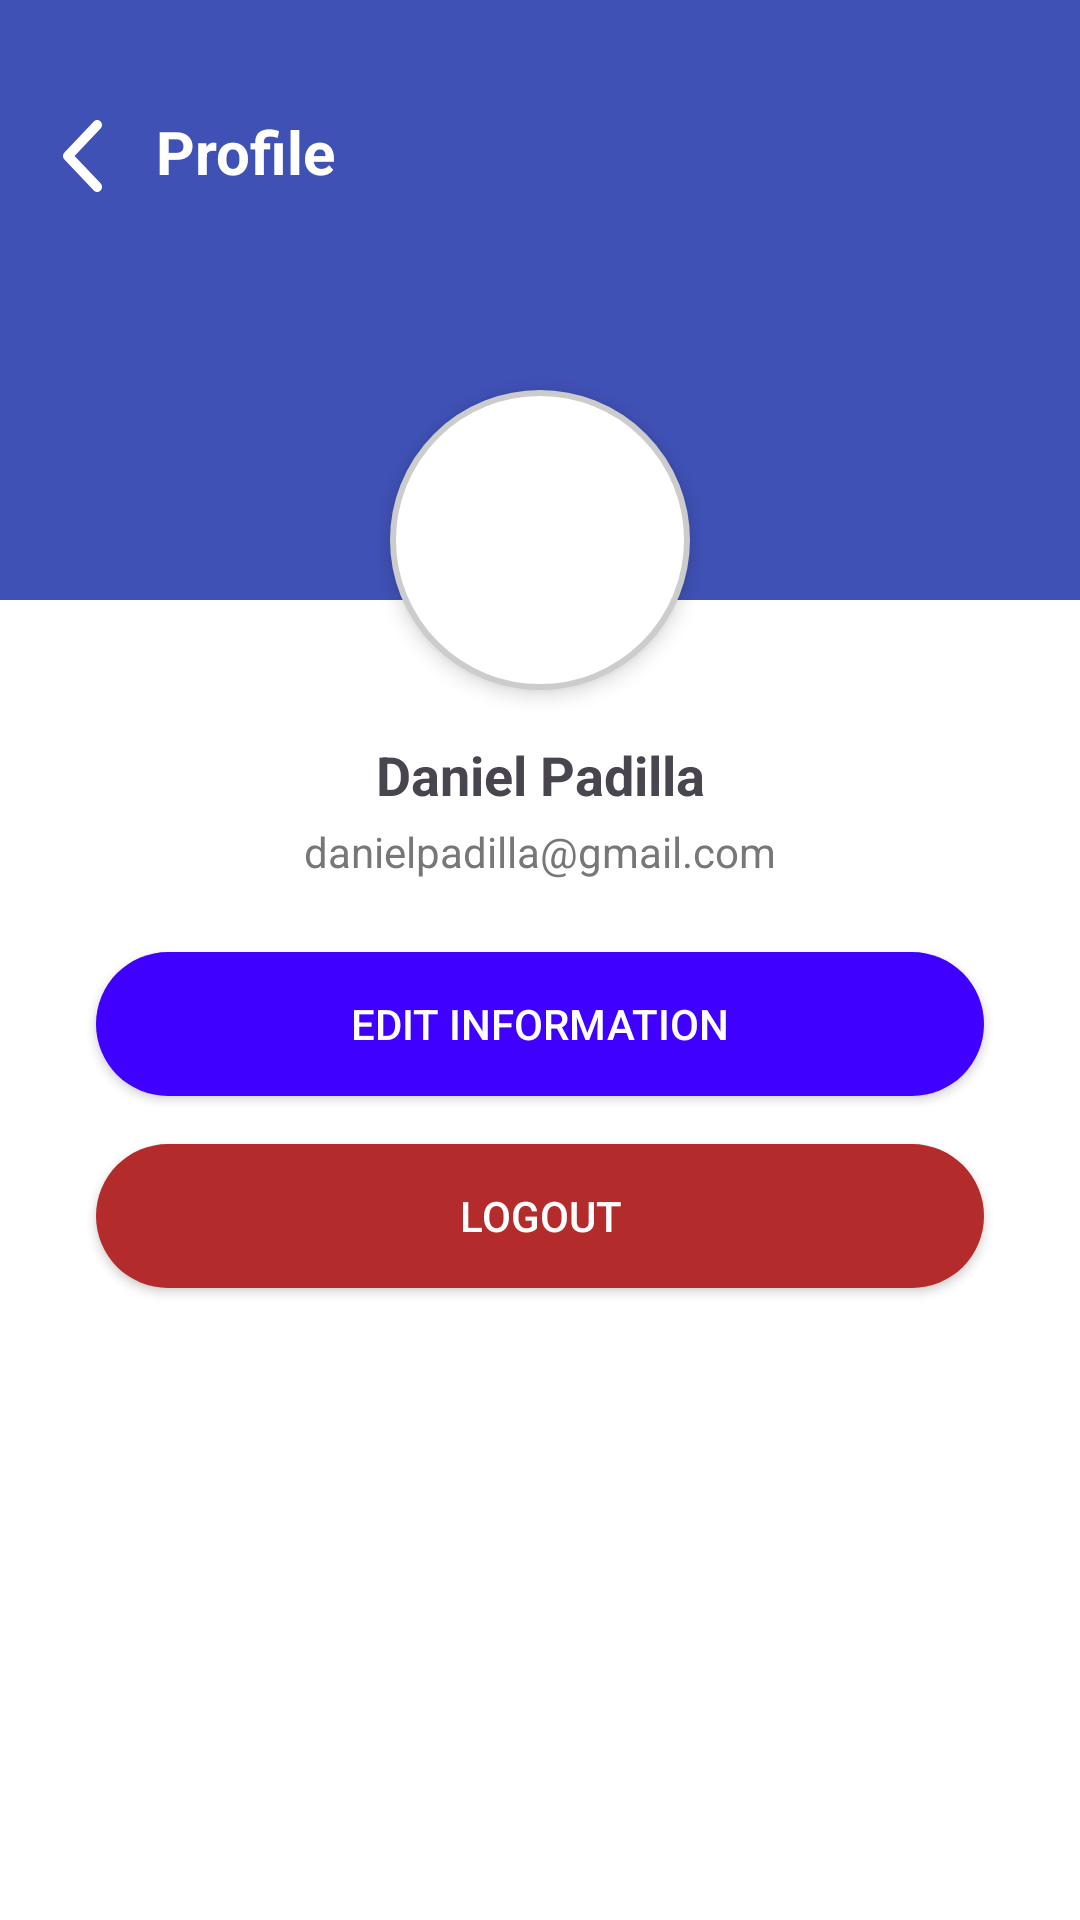

Icon click points for this 1080 × 1920 phone screenshot, format point (x, y):
back nav: point (82, 156)
